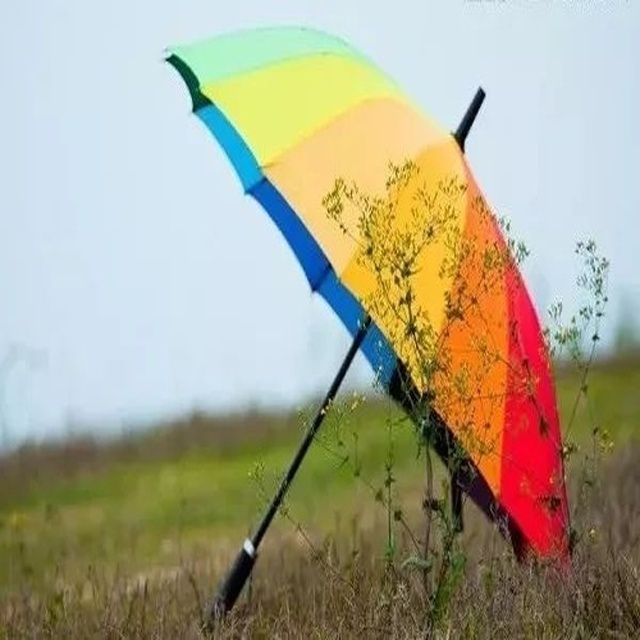umbrella: (157, 24, 584, 638)
